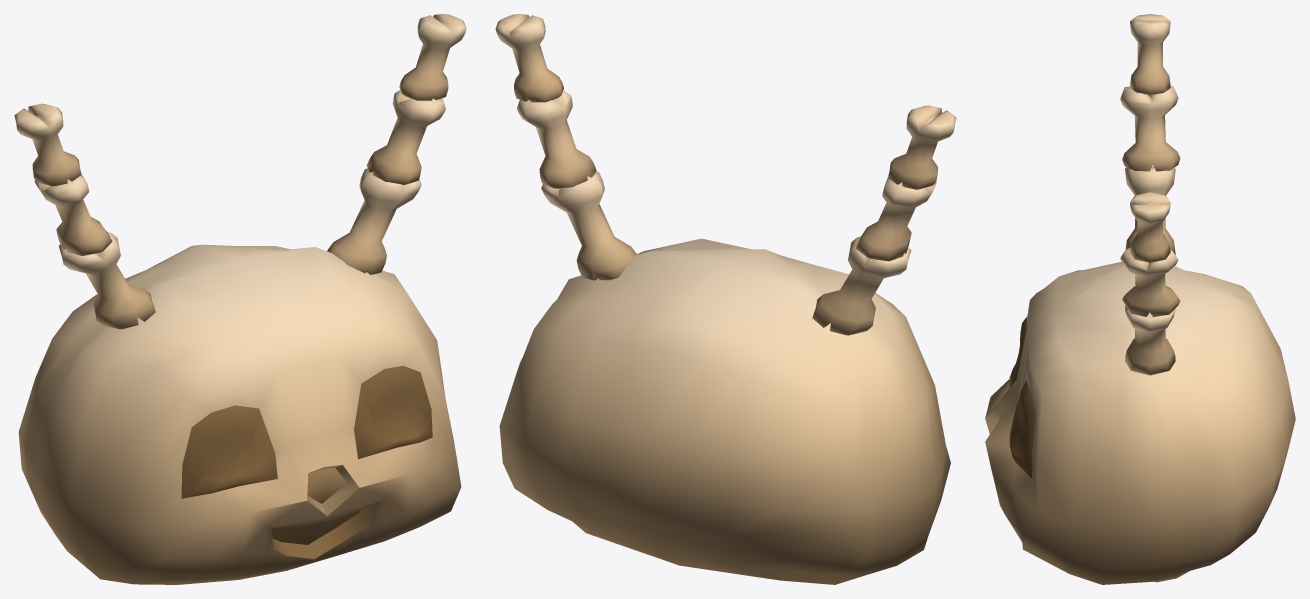
Rendered from bunnyskull.fbx.
3 renders of one model, left to right at view 1: azimuth 30°, elevation 25°; view 2: azimuth 150°, elevation 25°; view 3: azimuth 270°, elevation 25°, orthographic. The views are drawn at different scales.
Visible parts, largest first — view 1: villager_head, Bone.001; view 2: villager_head, Bone.001; view 3: villager_head, Bone.001.
Part boxes in pixels (x1=…): villager_head: x1=18, y1=244, x2=461, y2=584; Bone.001: x1=14, y1=14, x2=466, y2=329; villager_head: x1=499, y1=238, x2=950, y2=584; Bone.001: x1=495, y1=14, x2=956, y2=335; villager_head: x1=985, y1=261, x2=1295, y2=584; Bone.001: x1=1120, y1=14, x2=1180, y2=375.
Size of the model in its own units: 0.6609 by 0.6827 by 0.4471.
1 material, 1 textured.
